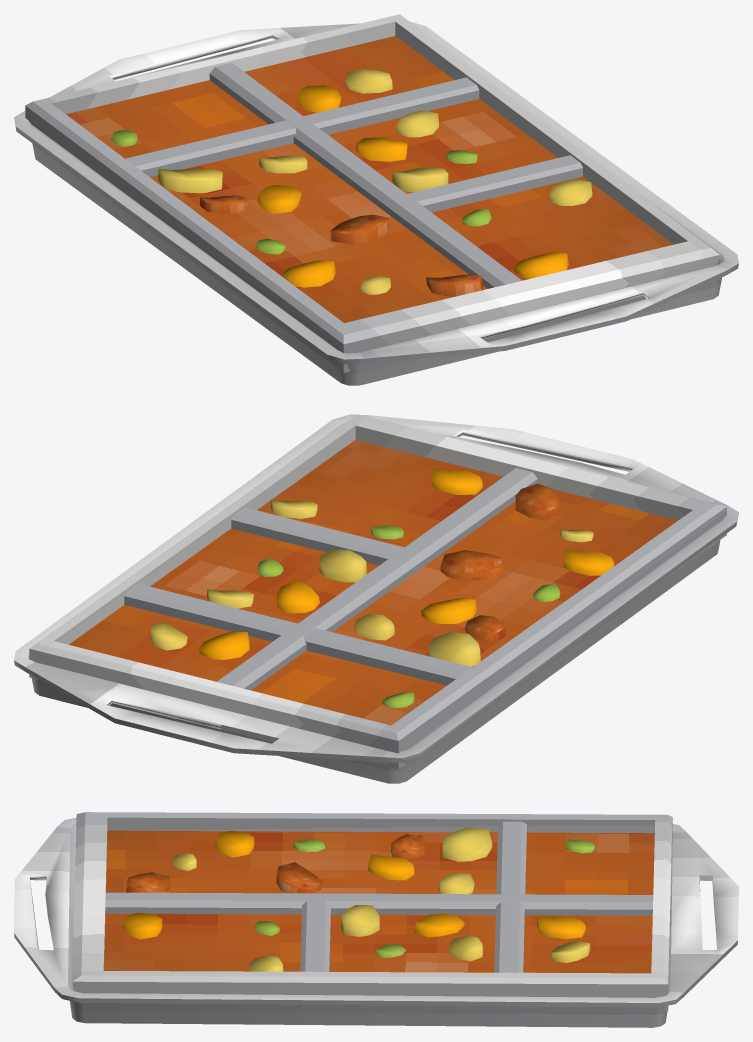
File: MessTray_Liquid.fbx
3 views of the same model, one above another, from view 1: azimuth 30°, elevation 25°; view 2: azimuth 150°, elevation 25°; view 3: azimuth 270°, elevation 25° (orthographic). The views are drawn at different scales.
Visible parts, largest first — view 1: MessTray.002; view 2: MessTray.002; view 3: MessTray.002.
Boxes of the visible parts, x1=… form: MessTray.002: x1=14, y1=14, x2=738, y2=385; MessTray.002: x1=14, y1=414, x2=738, y2=783; MessTray.002: x1=14, y1=812, x2=738, y2=1027.
Size of the model in its own units: 58.69 by 7.1 by 97.3.
